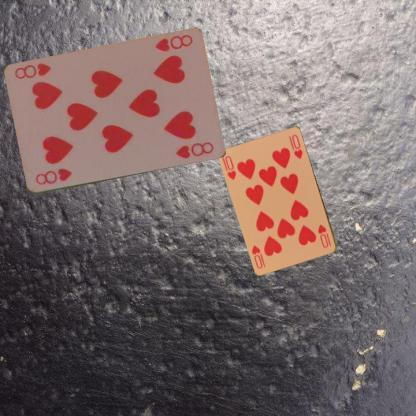10h: (223, 153, 238, 182), (316, 222, 332, 249)
8h: (152, 32, 194, 54), (32, 166, 73, 186)
